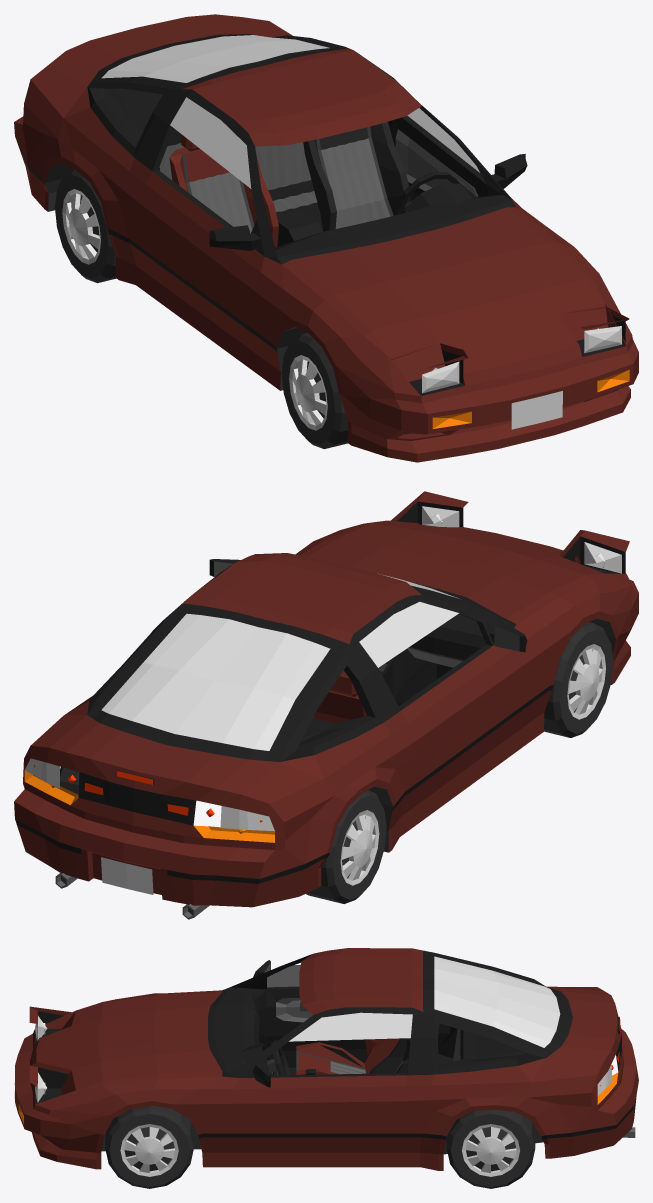
The model's file is 1994_nissan_180mx_free_model.glb.
3 renders of one model, top to bottom at view 1: azimuth 30°, elevation 25°; view 2: azimuth 150°, elevation 25°; view 3: azimuth 270°, elevation 25°, orthographic. The views are drawn at different scales.
Visible parts, largest first — view 1: Plane.002, Cube, Cylinder.002, Cylinder.001, Cube.002, Plane.001, Cylinder.004; view 2: Plane.002, Cylinder.002, Cylinder.001, Plane.001, Cube.002; view 3: Plane.002, Cylinder, Cylinder.005, Cube.002, Plane.001, Cube, Cylinder.004.
Boxes of the visible parts, x1,y1,x2,y2 form: Plane.002: (14, 14, 638, 462); Cube: (303, 121, 410, 231); Cylinder.002: (281, 333, 347, 449); Cylinder.001: (55, 169, 116, 283); Cube.002: (169, 134, 278, 247); Plane.001: (390, 307, 629, 393); Cylinder.004: (397, 172, 475, 214); Plane.002: (14, 520, 638, 919); Cylinder.002: (544, 622, 613, 737); Cylinder.001: (306, 790, 386, 903); Plane.001: (391, 491, 629, 573); Cube.002: (313, 670, 366, 723); Plane.002: (14, 948, 638, 1170); Cylinder: (105, 1106, 193, 1188); Cylinder.005: (446, 1109, 535, 1188); Cube.002: (296, 1038, 400, 1074); Plane.001: (29, 1006, 73, 1102); Cube: (369, 1038, 410, 1073); Cylinder.004: (237, 1040, 290, 1075).
Size of the model in its own units: 5.04 by 3.29 by 11.46.
